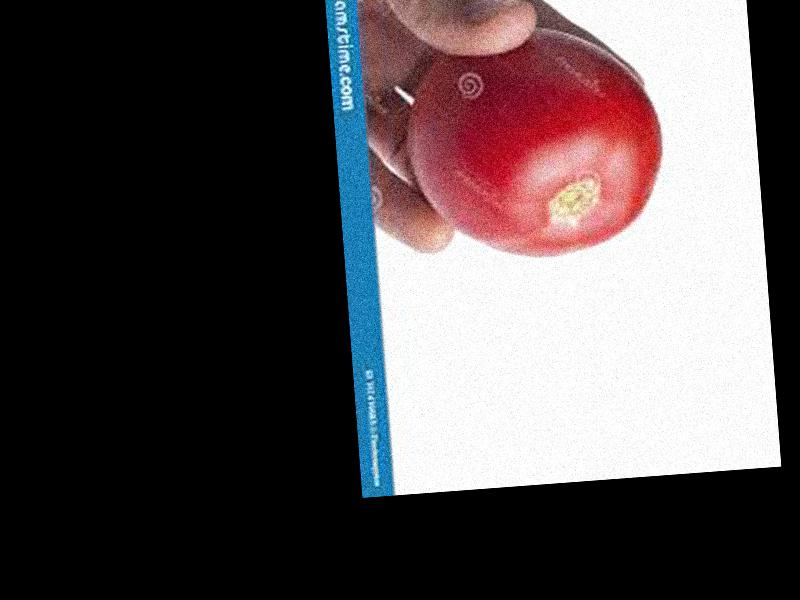Tomato: (400, 18, 669, 265)
